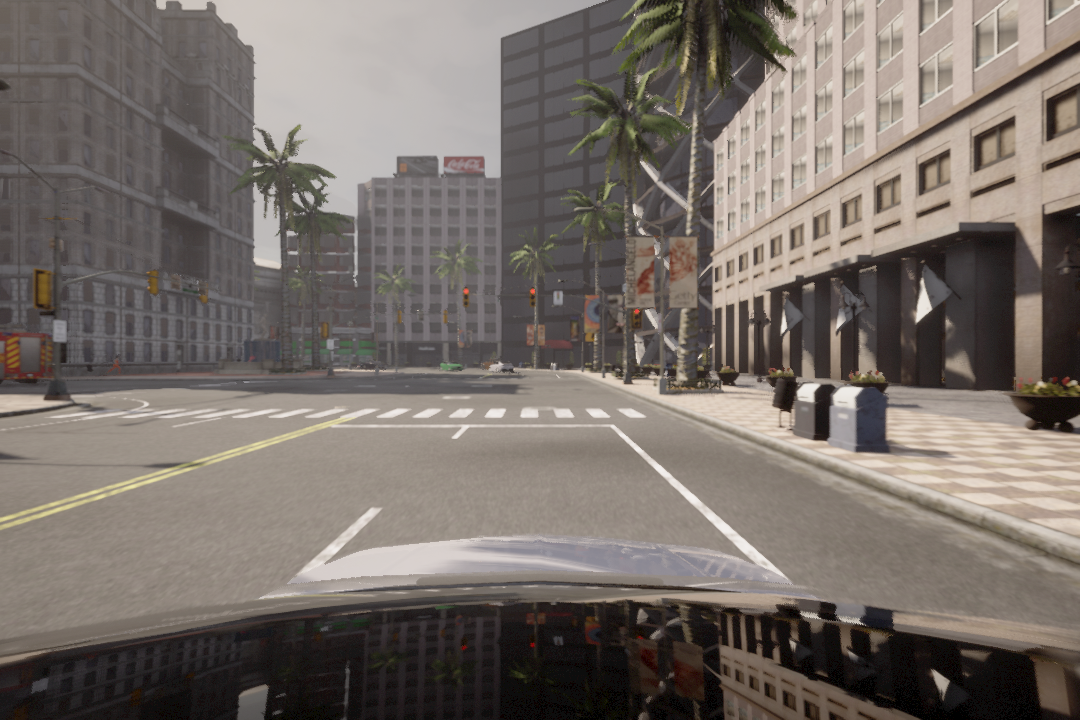TrafficLight: (461, 285, 472, 307), (632, 306, 642, 330), (529, 287, 537, 307)
walkside: (58, 401, 654, 424)
